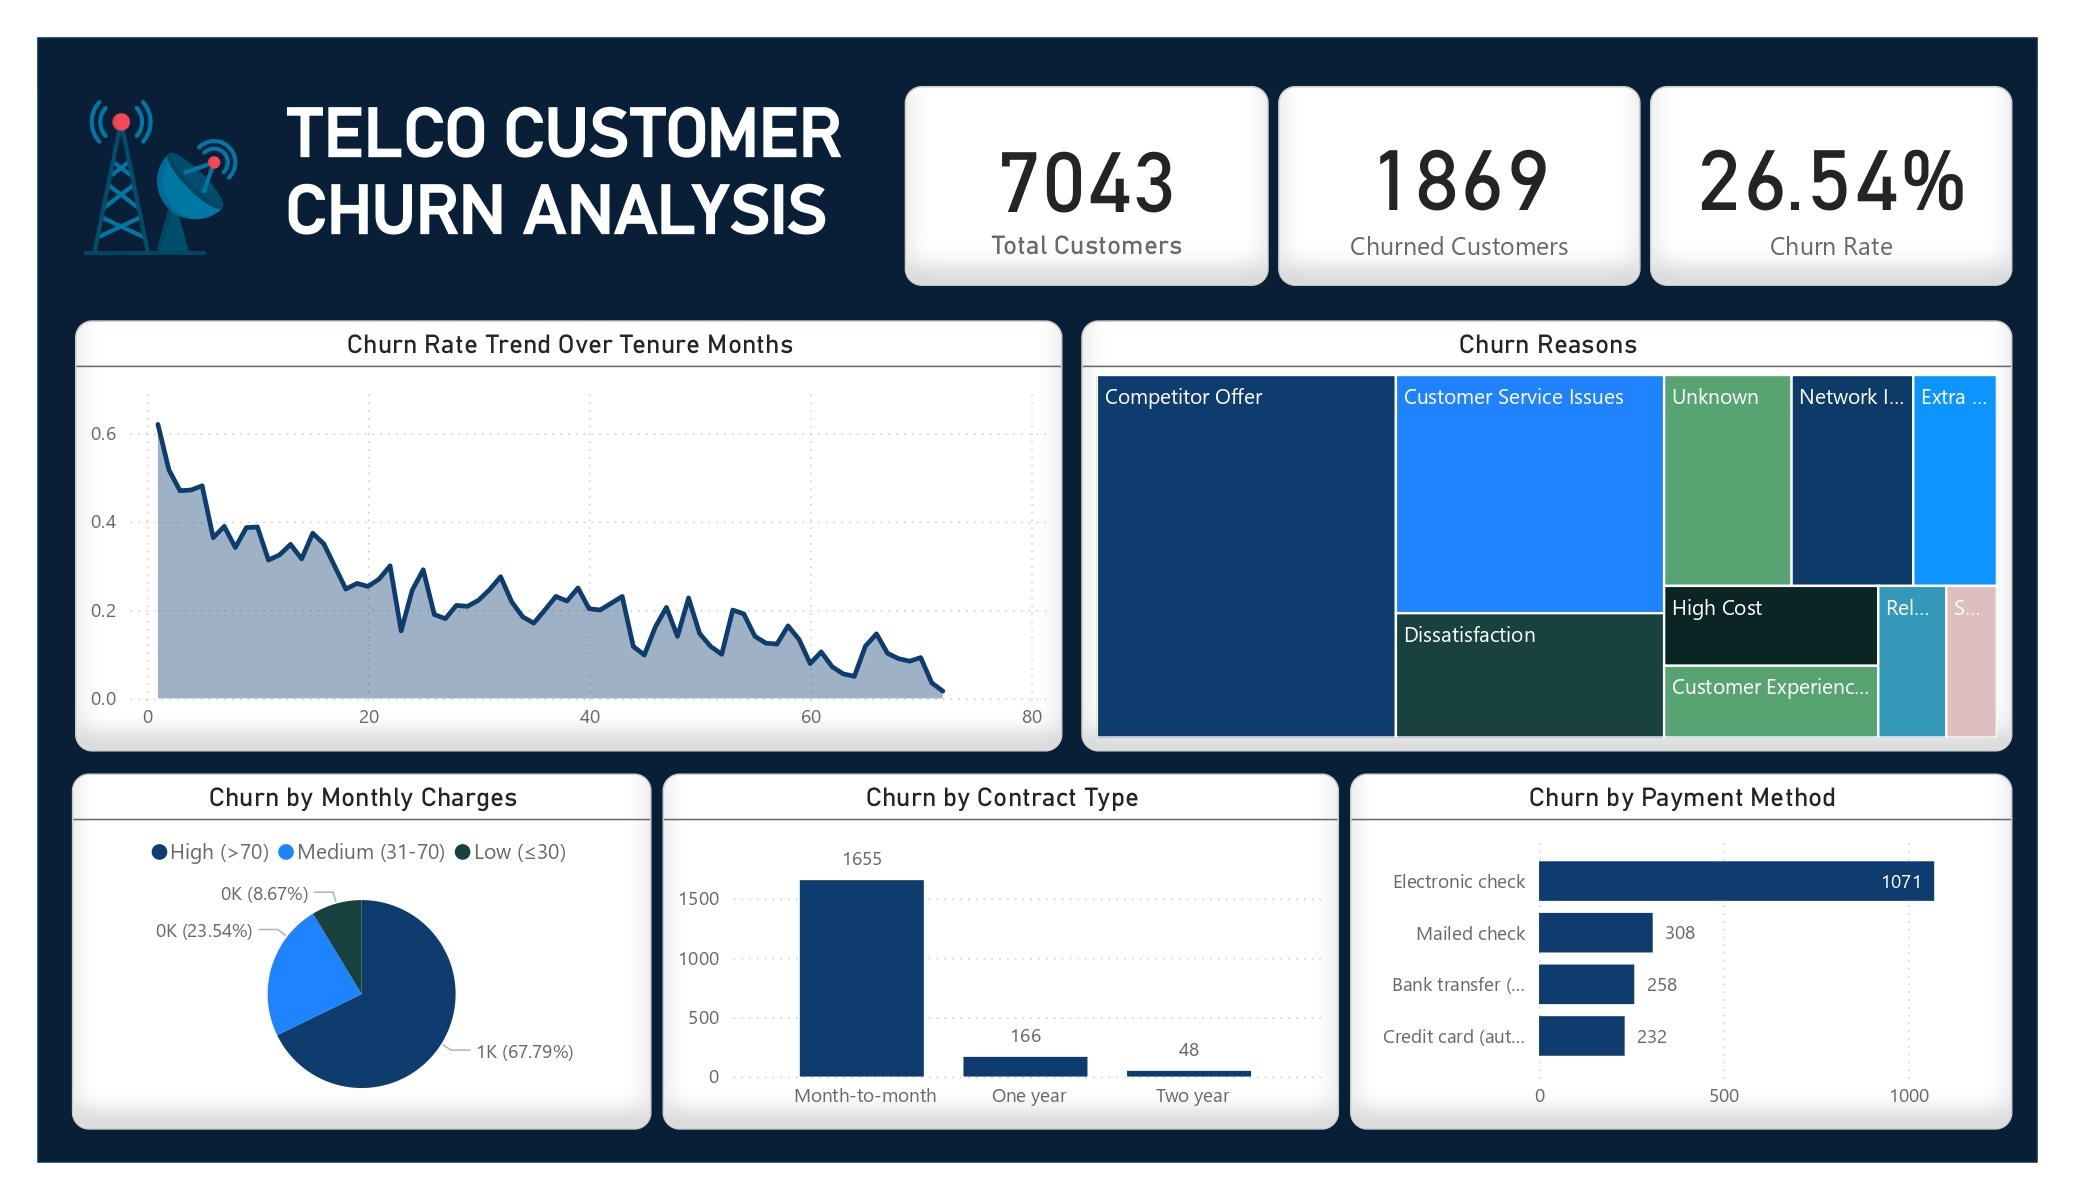

The page's visual inventory and layout, read from the dashboard file:
{"tool":"powerbi","page":{"name":"Page 1","canvas":[1280,720],"ordinal":0},"visuals":[{"type":"shape","box":[0,0,1280,720],"z":0},{"type":"textbox","box":[153.5,31.1,401.9,127.7],"z":1000},{"type":"card","fields":{"Values":["churn_analysis.Total Customers"]},"box":[555.5,31.1,232.9,127.7],"z":2000},{"type":"areaChart","title":"Churn Rate Trend Over Tenure Months","fields":{"Category":["churn_analysis.Tenure_Months"],"Y":["churn_analysis.Churn Rate"]},"box":[24.2,181.1,631.4,276],"z":3000},{"type":"card","fields":{"Values":["churn_analysis.Churned Customers"]},"box":[793.5,31.1,232.9,127.7],"z":4000},{"type":"card","fields":{"Values":["churn_analysis.Churn Rate"]},"box":[1031.6,31.1,232.9,127.7],"z":5000},{"type":"columnChart","title":"Churn by Contract Type","fields":{"Category":["churn_analysis.Contract"],"Y":["churn_analysis.Churned Customers"]},"box":[400.2,470.9,433,227.7],"z":6000},{"type":"barChart","title":"Churn by Payment Method","fields":{"Category":["churn_analysis.Payment_Method"],"Y":["churn_analysis.Churned Customers"]},"box":[840.1,470.9,424.4,227.7],"z":7000},{"type":"treemap","title":"Churn Reasons","fields":{"Values":["churn_analysis.Churned Customers"],"Group":["churn_analysis.Churn_Category"]},"box":[667.6,181.1,596.9,276],"z":8000},{"type":"pieChart","title":"Churn by Monthly Charges","fields":{"Category":["churn_analysis.Monthly Charges Category"],"Y":["churn_analysis.Churned Customers"]},"box":[22.4,470.9,370.9,227.7],"z":9000},{"type":"image","box":[24.2,31.1,108.7,115.6],"z":10000}]}

Visuals, with their boxes in screenshot pixels (x1, y1, x2, y2):
shape: 38 38 2038 1162
textbox: 277 86 905 286
card - churn_analysis.Total Customers: 905 86 1269 286
"Churn Rate Trend Over Tenure Months" areaChart: 75 320 1062 752
card - churn_analysis.Churned Customers: 1277 86 1641 286
card - churn_analysis.Churn Rate: 1649 86 2013 286
"Churn by Contract Type" columnChart: 663 773 1339 1129
"Churn by Payment Method" barChart: 1350 773 2013 1129
"Churn Reasons" treemap: 1081 320 2013 752
"Churn by Monthly Charges" pieChart: 72 773 652 1129
image: 75 86 245 267
